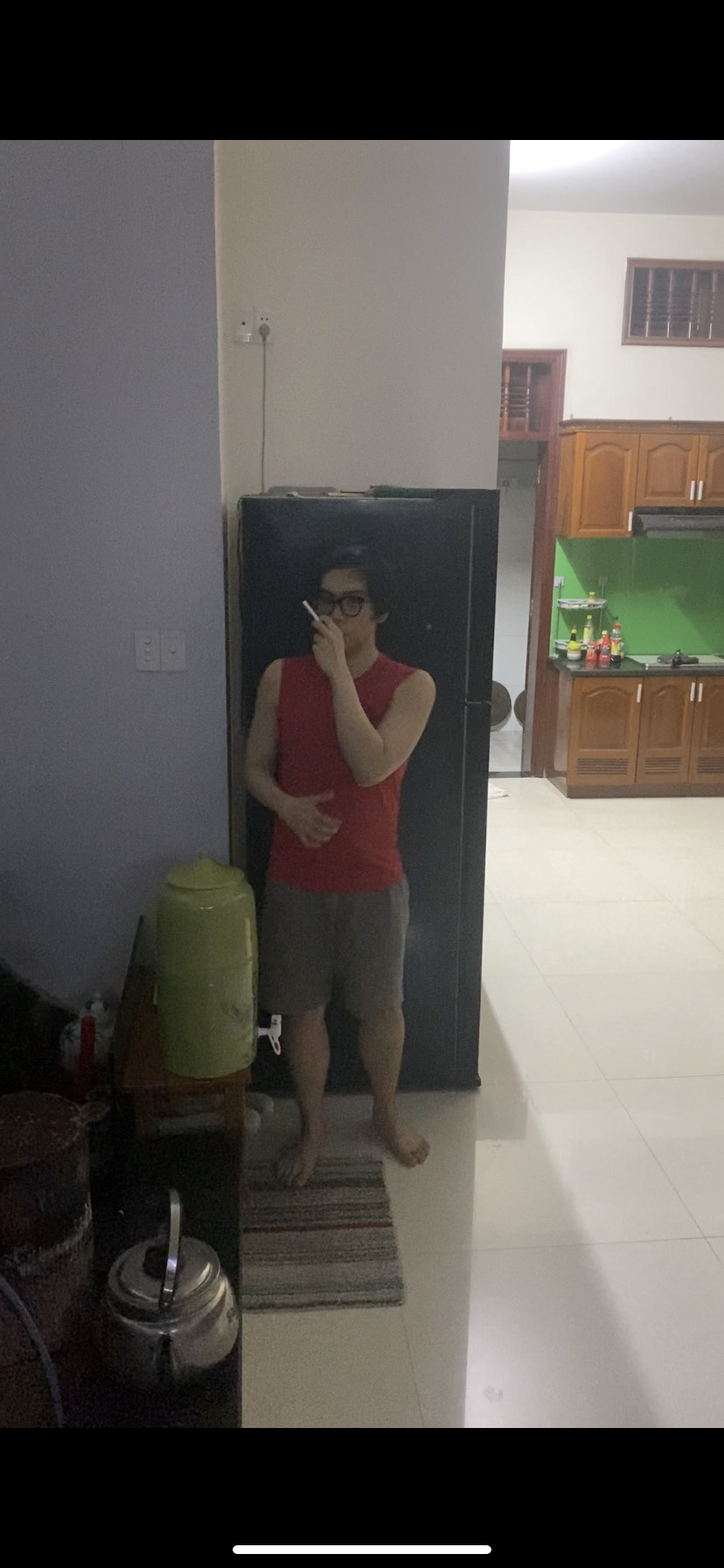cigarette: (299, 597, 320, 622)
person: (240, 486, 447, 1215)
